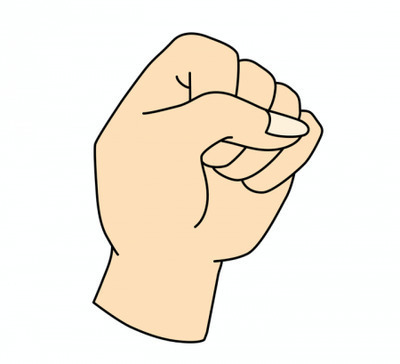closedhandfront: (66, 15, 326, 271)
